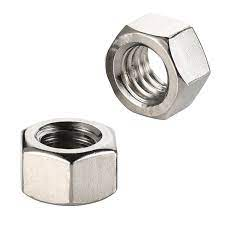Thread: (106, 37, 181, 113), (30, 116, 118, 161)
